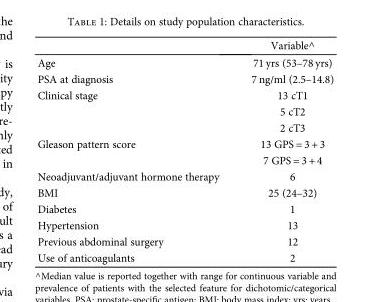table: (36, 36, 333, 263)
table column: (36, 36, 234, 263), (234, 36, 333, 263)
table column header: (36, 36, 333, 54)
table row: (36, 36, 333, 54), (36, 86, 333, 103), (36, 167, 333, 184), (36, 216, 333, 233), (36, 54, 333, 70), (36, 70, 333, 86), (36, 103, 333, 119), (36, 119, 333, 135), (36, 135, 333, 151), (36, 151, 333, 167), (36, 184, 333, 200), (36, 200, 333, 216), (36, 233, 333, 249), (36, 249, 333, 263)
table spanning cell: (36, 86, 234, 135), (36, 135, 234, 167)
